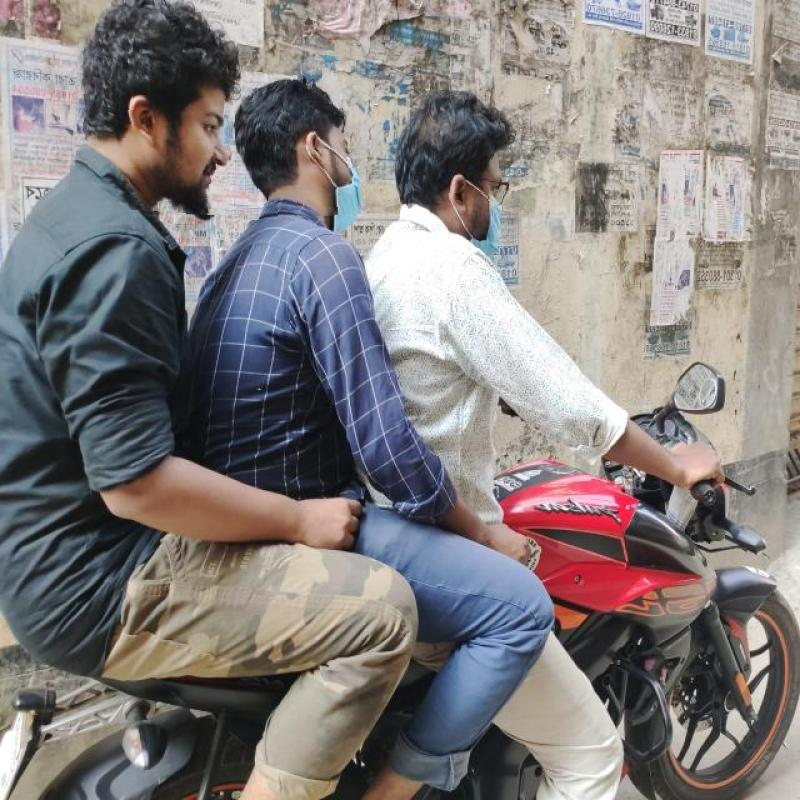nohelmet: (72, 7, 236, 213), (401, 80, 518, 248), (243, 61, 366, 218)
